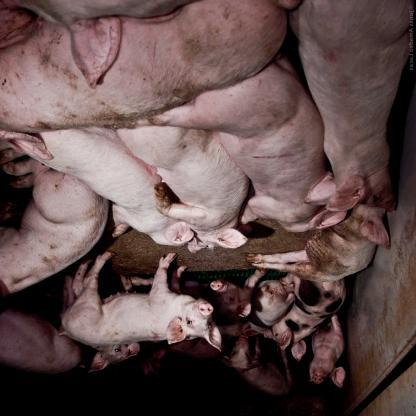boar: (0, 1, 413, 398)
